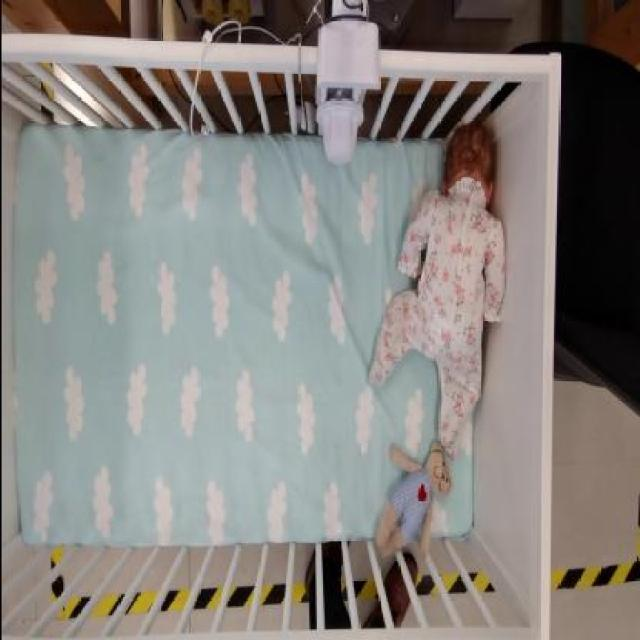baby: (360, 119, 510, 459)
